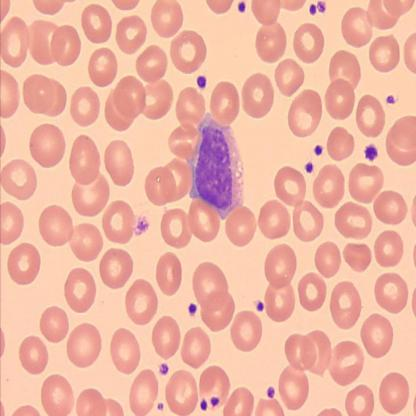Myelocyte: (191, 112, 244, 218)
